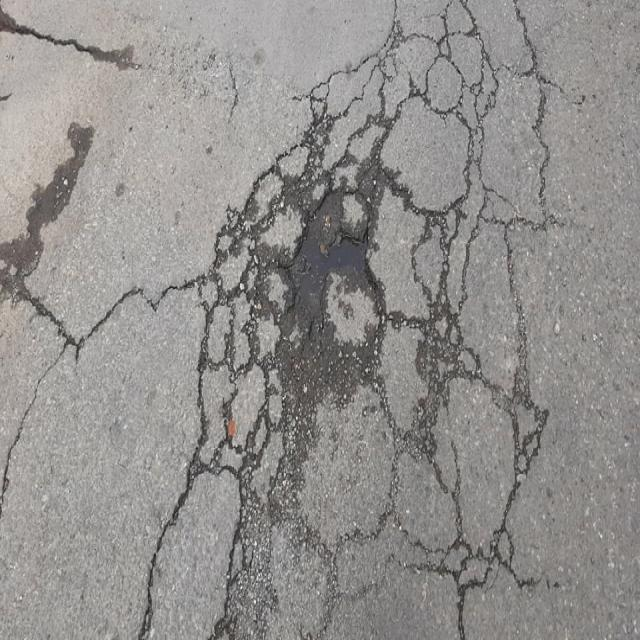Pothole: (169, 124, 472, 380)
